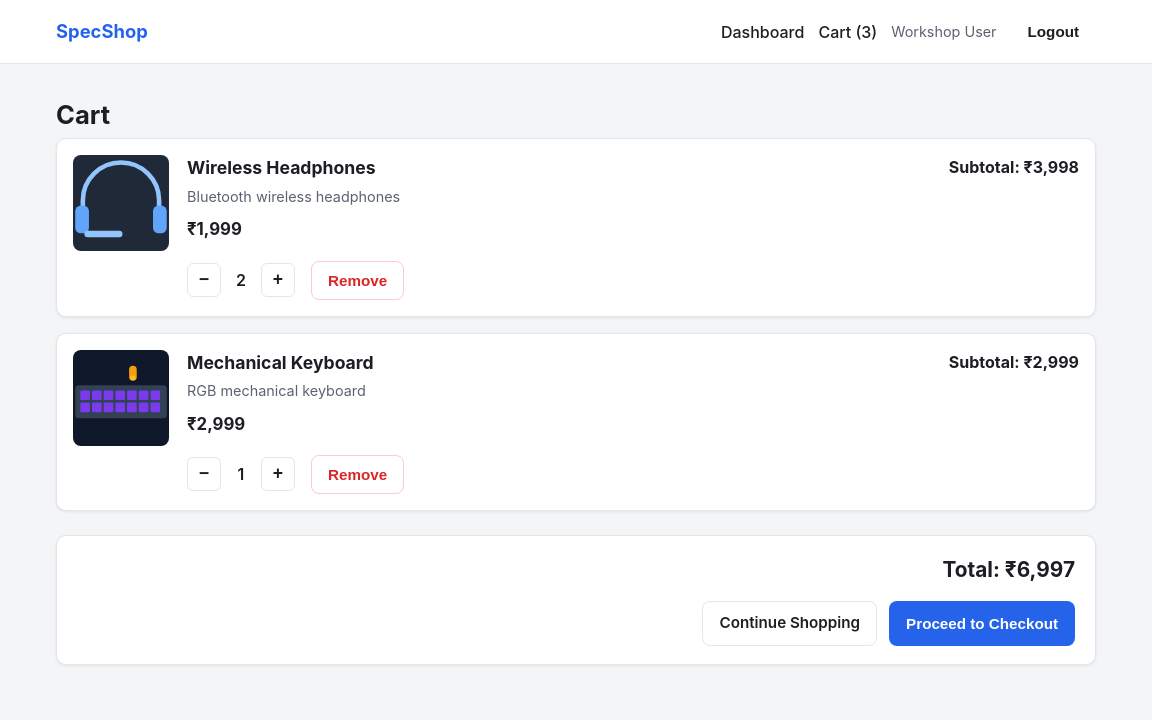
Test case: cart spec › increases quantity with + and updates subtotal and total immediately
Click the button named "Increase quantity of Wireless Headphones" at (278, 280), box [261,263,295,297]
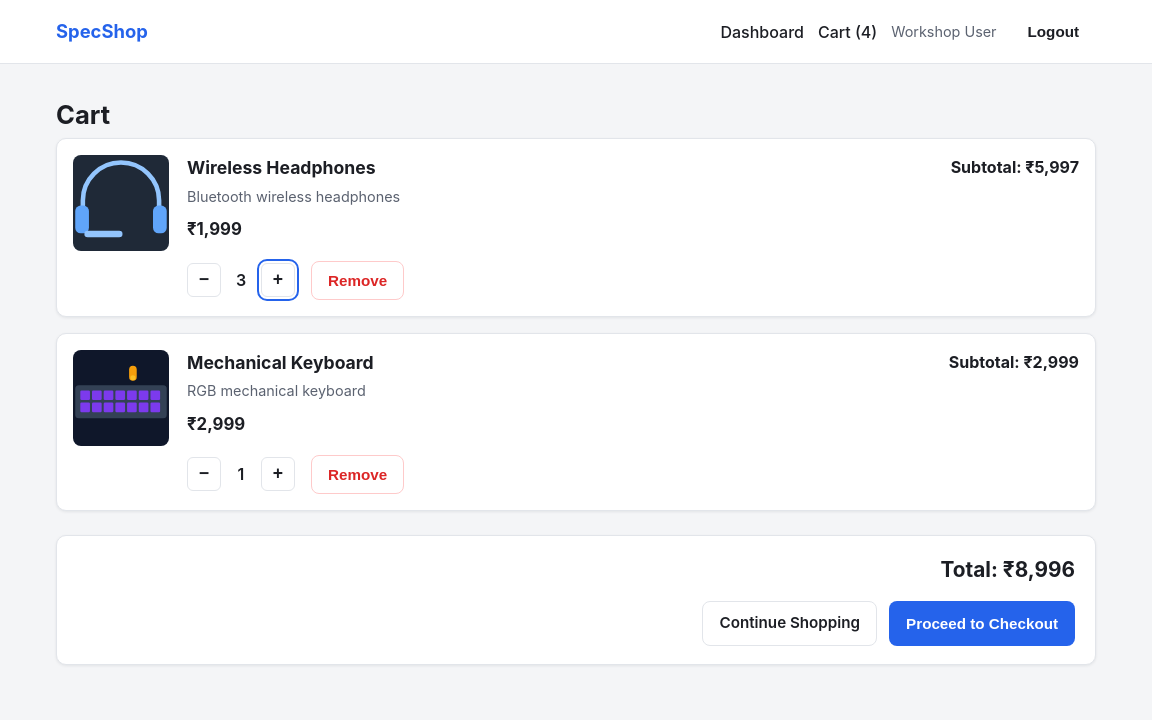
Now the text "Subtotal: ₹5,997" is shown, box [951,155,1079,179]
Now the text "Total: ₹8,996" is shown, box [940,557,1075,582]
